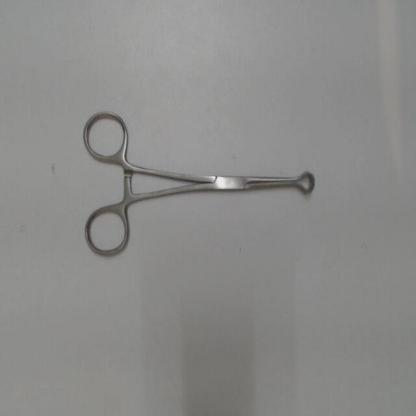Babcock Tissue Forceps: (78, 104, 317, 262)
